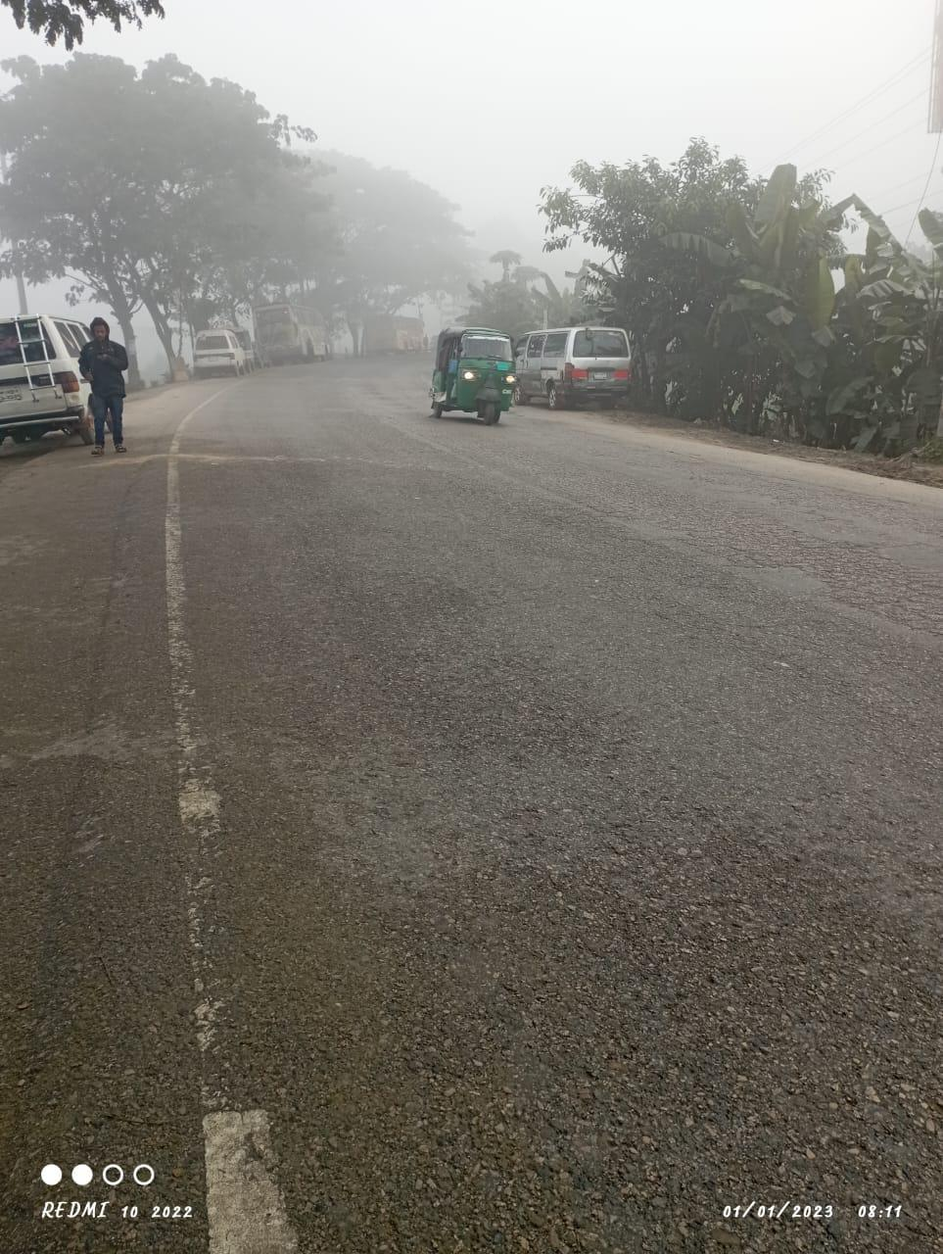Bus: (253, 301, 350, 366), (365, 305, 428, 359)
Car: (6, 311, 133, 450), (502, 317, 635, 418), (185, 317, 243, 393)
